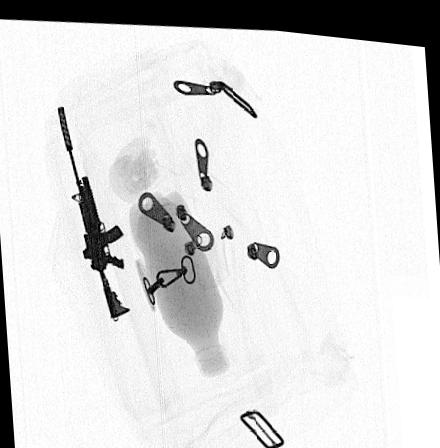Gun: (55, 99, 129, 318)
